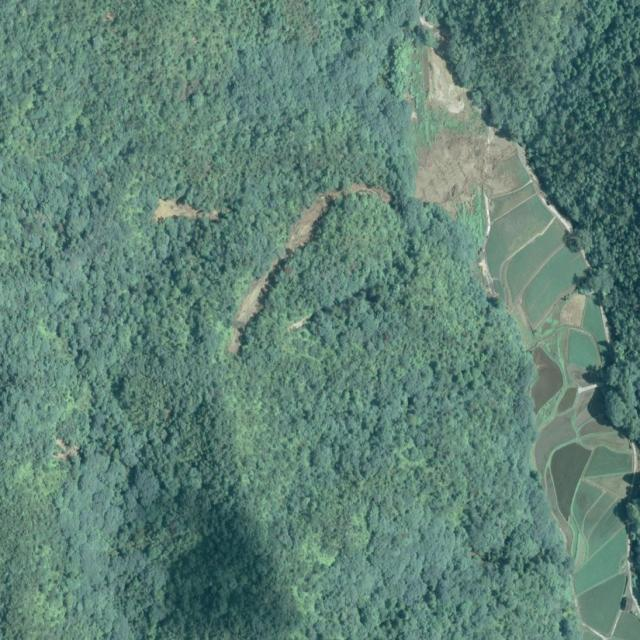landslide: (228, 184, 391, 353), (429, 46, 466, 112), (153, 198, 199, 221)
